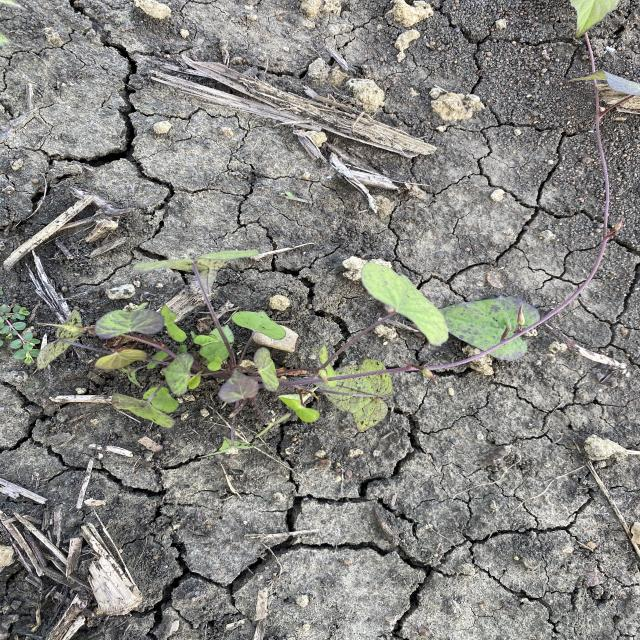MorningGlory: (35, 0, 622, 461)
SpottedSpurge: (1, 304, 45, 366)
